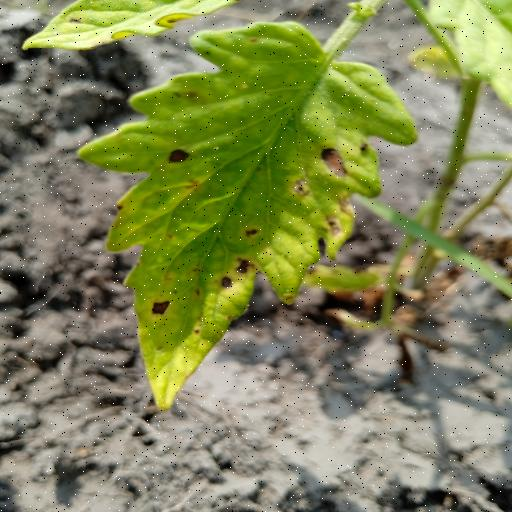Tomato_Brown_Spots: (73, 17, 422, 415)
